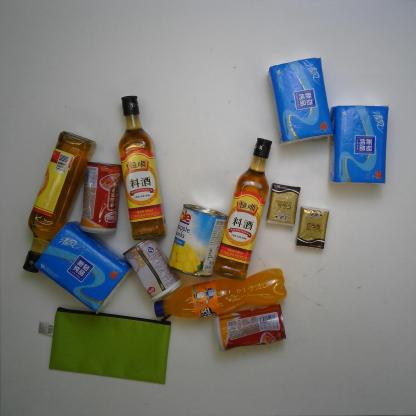Canned Food: (167, 203, 228, 279), (121, 237, 182, 301), (212, 303, 288, 352), (79, 160, 122, 235)
Drink: (152, 266, 288, 322)
Seasoner: (21, 130, 98, 274), (212, 136, 273, 281), (116, 94, 168, 241)
Stationery: (37, 306, 172, 386)
Tissue: (34, 220, 134, 315), (269, 56, 335, 146), (328, 103, 390, 185), (265, 182, 301, 228), (295, 205, 330, 250)
